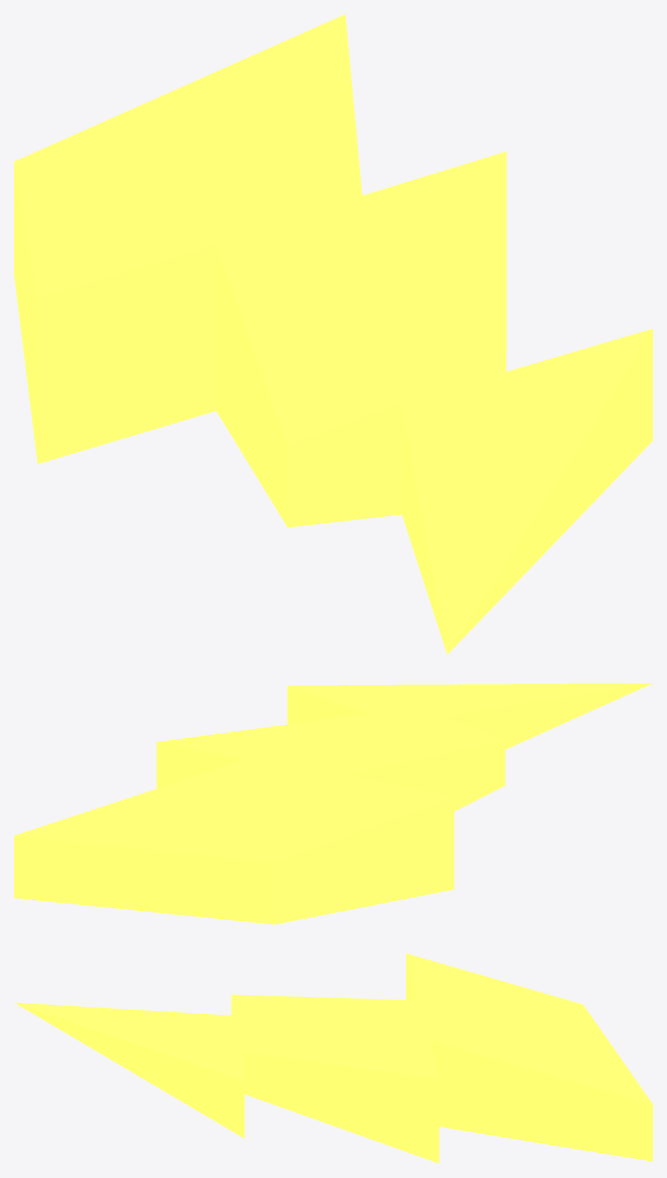
Rendered from Lightningblot.fbx.
The picture shows the model from 3 angles, top to bottom: view 1: azimuth 30°, elevation 25°; view 2: azimuth 150°, elevation 25°; view 3: azimuth 270°, elevation 25°; orthographic projection. The views are drawn at different scales.
Visible parts, largest first — view 1: Cube; view 2: Cube; view 3: Cube.
Part boxes in pixels (box(x1,y1,x2,y2)): Cube: box(14, 14, 652, 654); Cube: box(14, 683, 652, 924); Cube: box(15, 953, 652, 1163).
Size of the model in its own units: 199 by 57.7 by 392.
